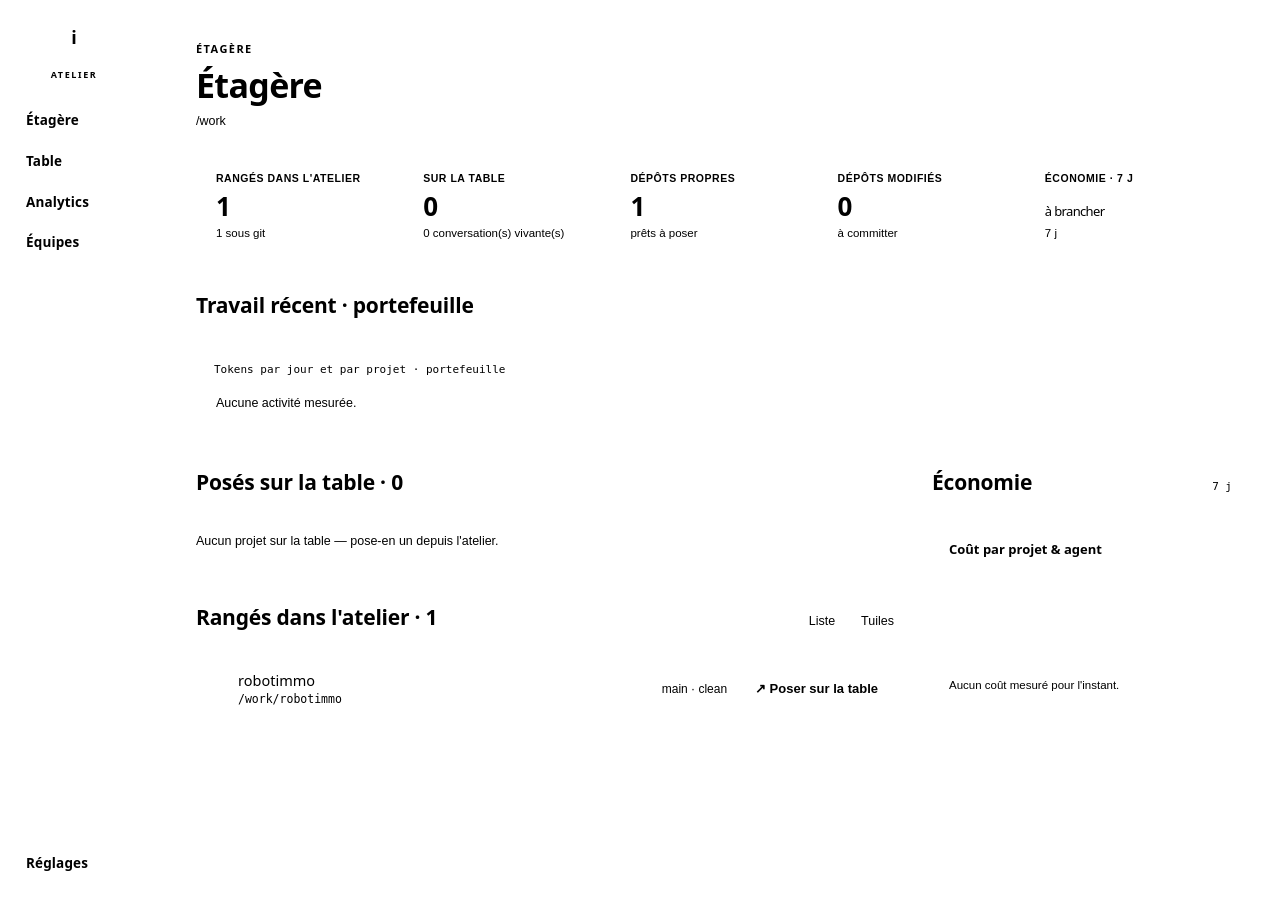
Test: un tour `parole` assistant d'une session ATTACHÉE ne porte ni nom ni avatar
Click the button "↗ Poser sur la table". click: (817, 689)
box: [741,674,892,703]
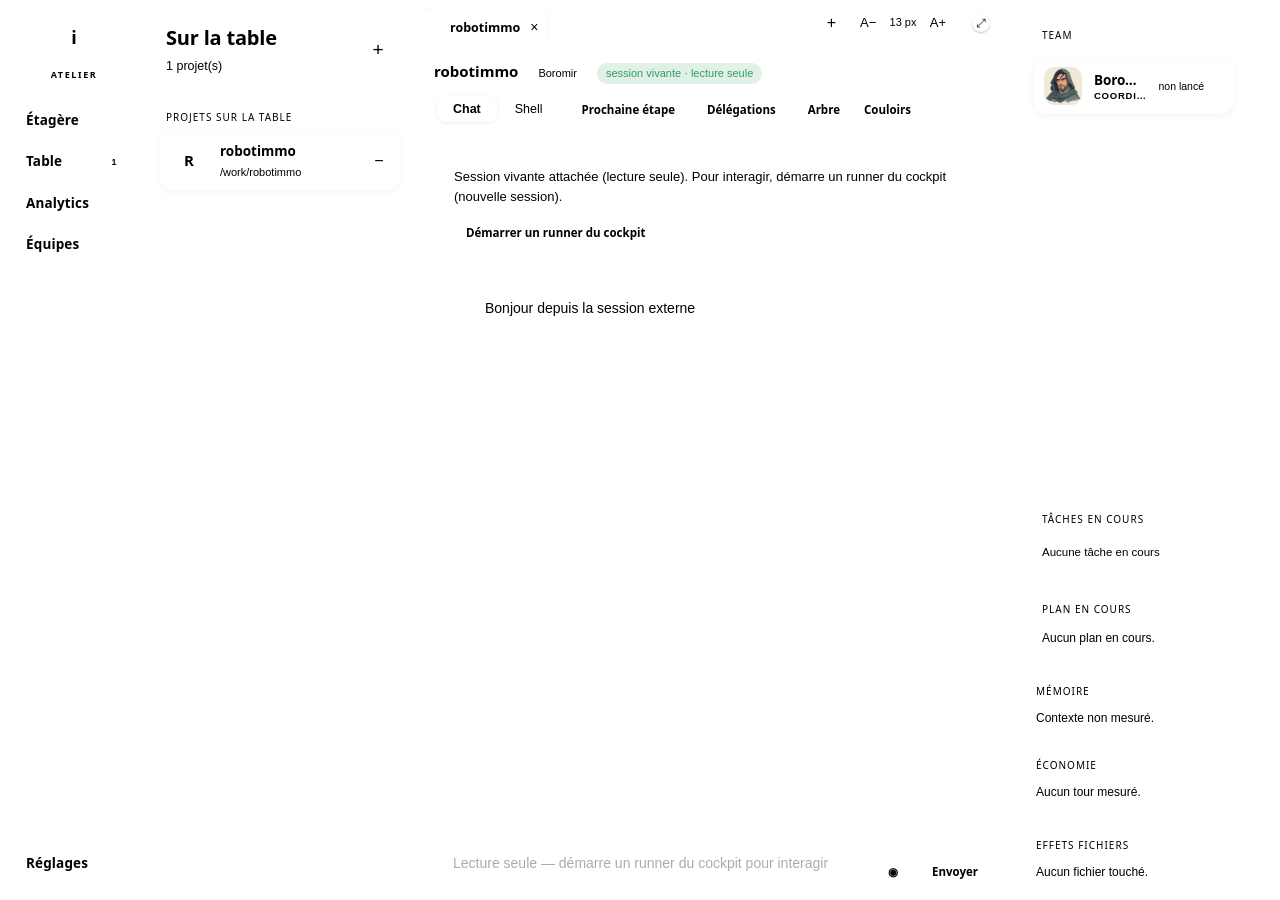
Expected: the text "session vivante · lecture seule" is shown, [597,63,762,84]
Expected: the text "Bonjour depuis la session externe" is shown, [485,298,695,320]
